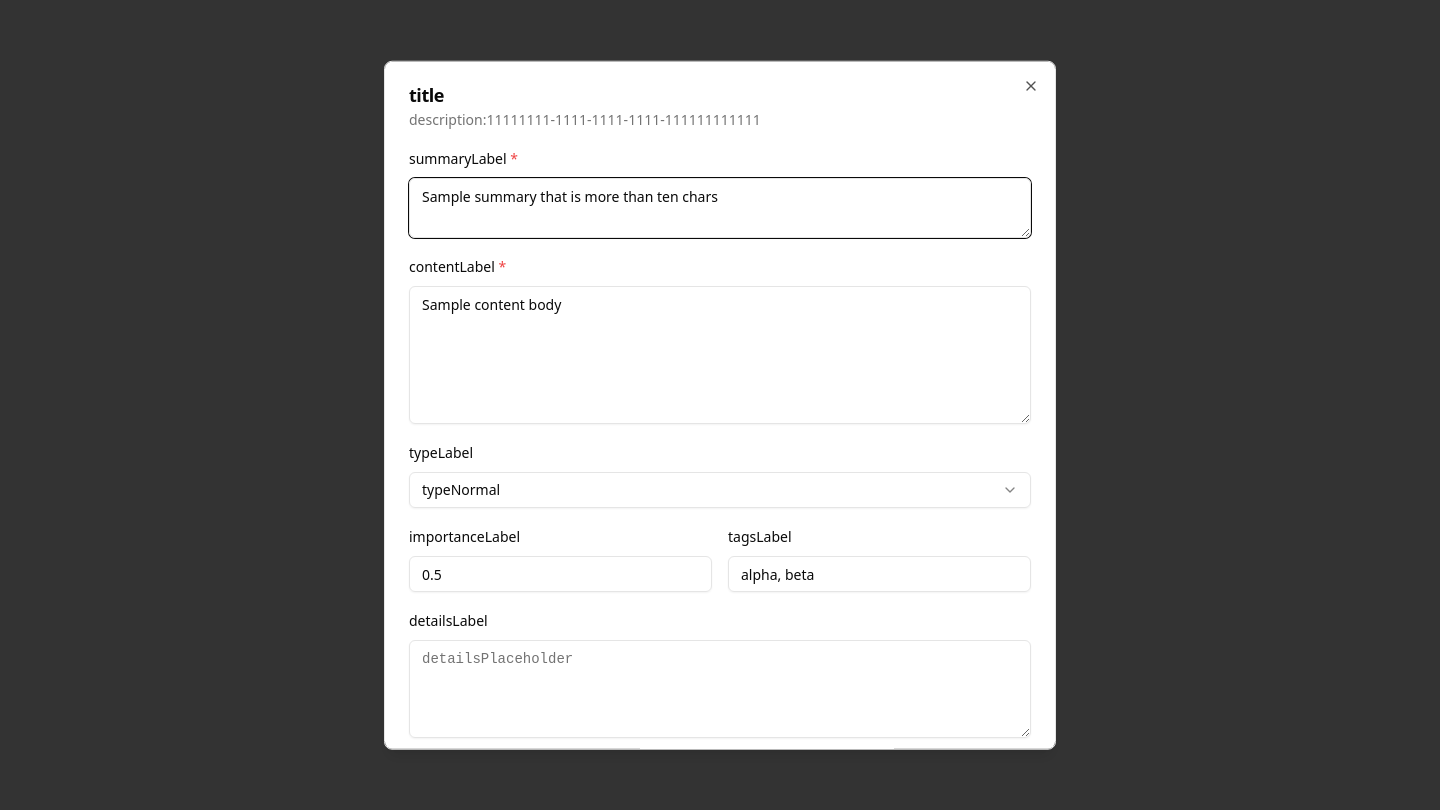
Test: EditMemoryDialog — details JSON validation › rejects empty importance input as validation error (Copilot loop 2)
The image size is (1440, 810).
Clear the number field labelled "importanceLabel" at [560, 574], box [409,556,712,592]
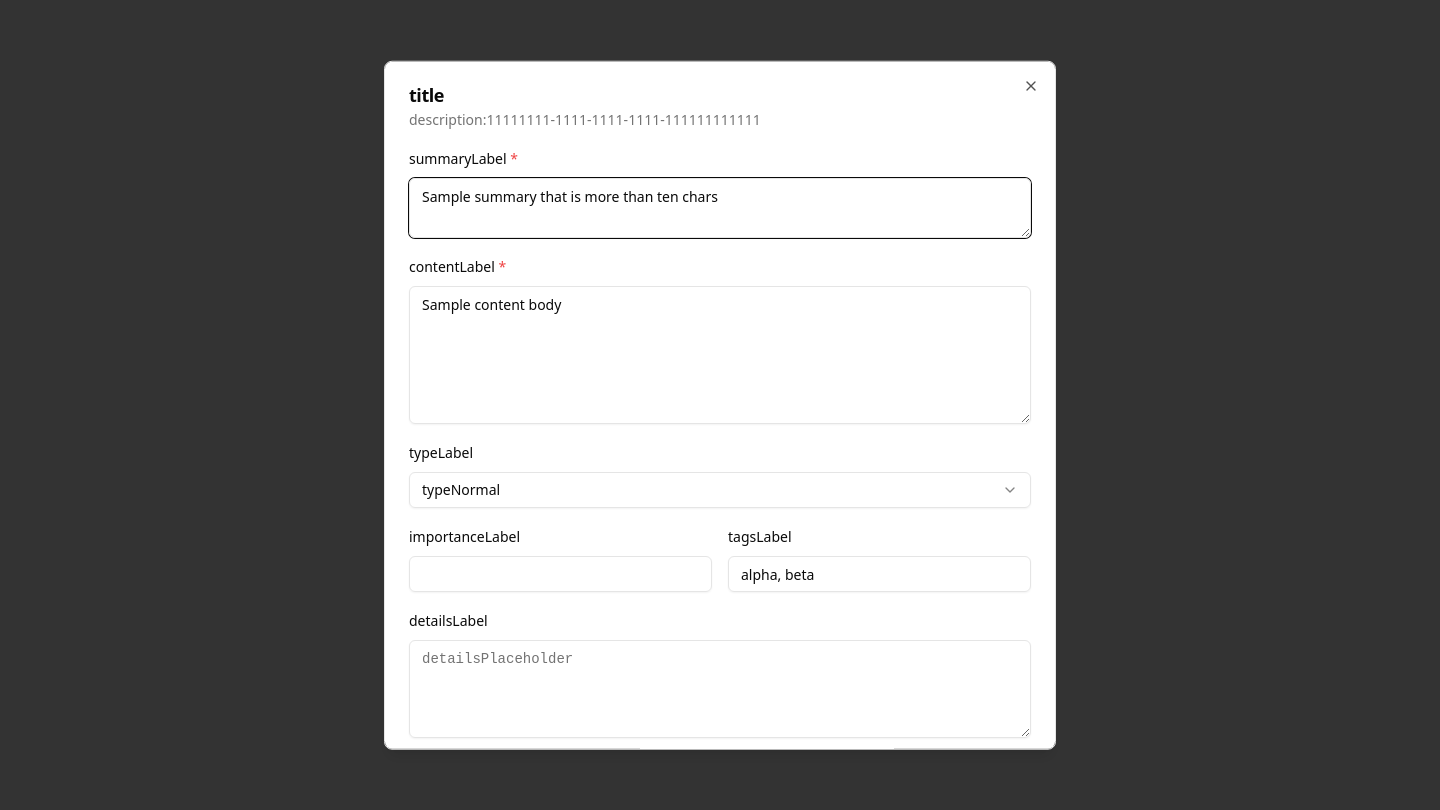
Expected: the form is shown, [409,146,1031,749]
Submit the form, box [409,146,1031,790]
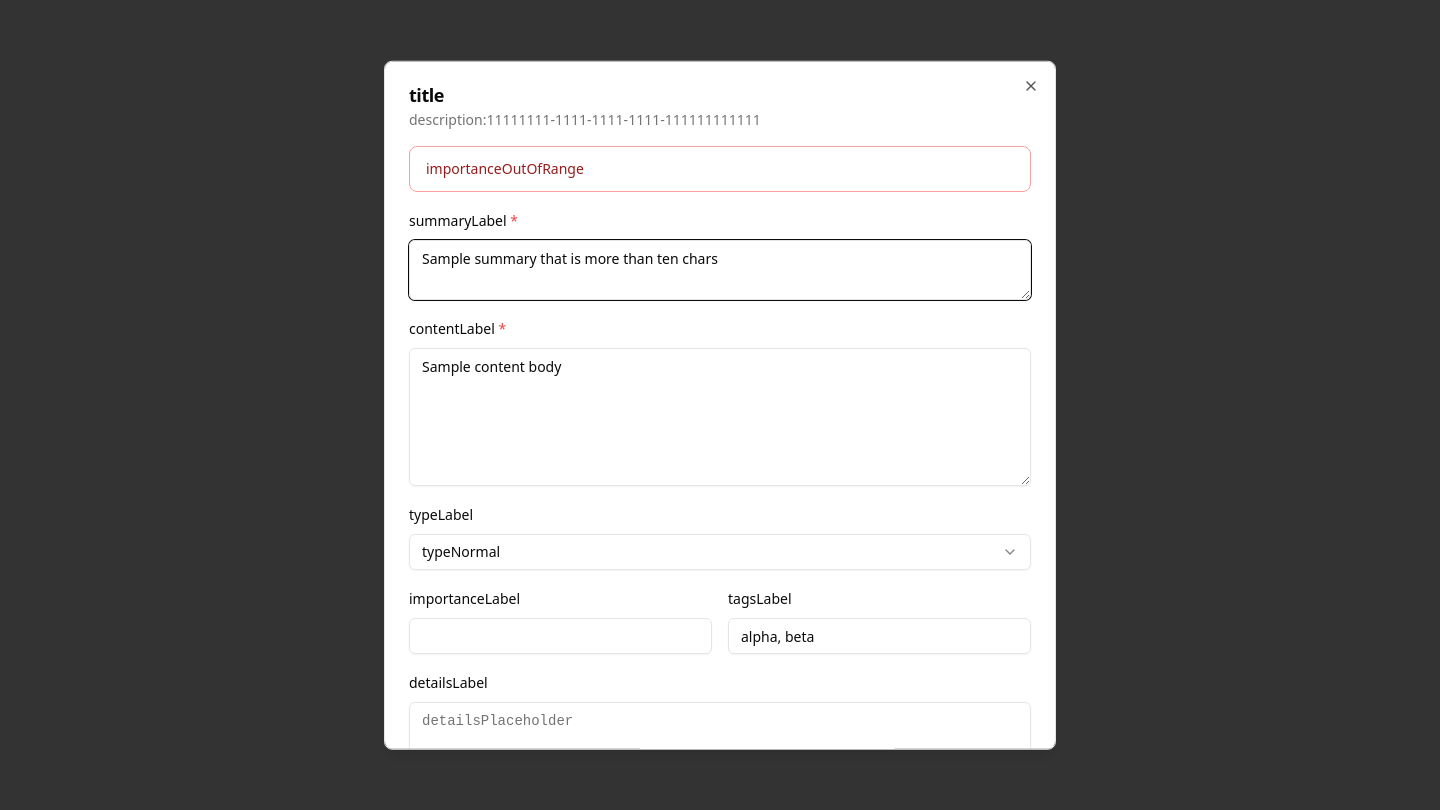
Now the text "importanceOutOfRange" is shown, box [426,159,584,178]
